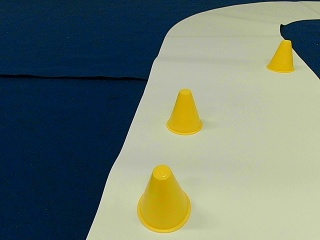cone: (137, 165, 190, 231), (167, 89, 202, 134), (267, 40, 294, 72)
